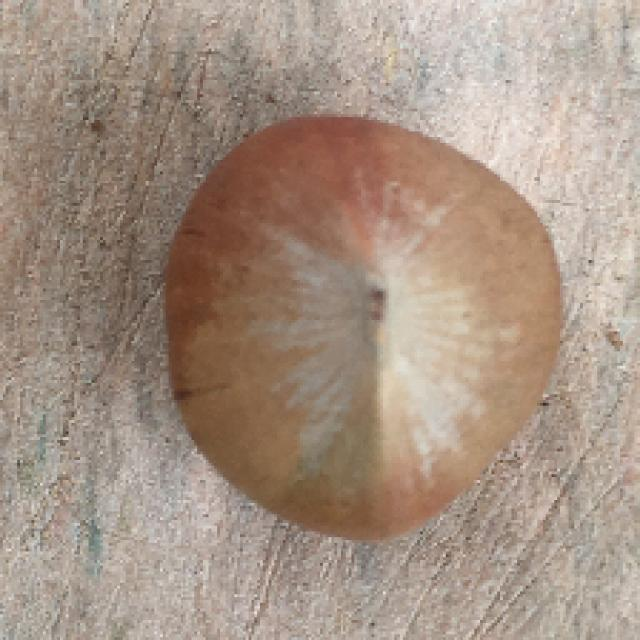qualityHazelnut: (161, 115, 563, 538)
